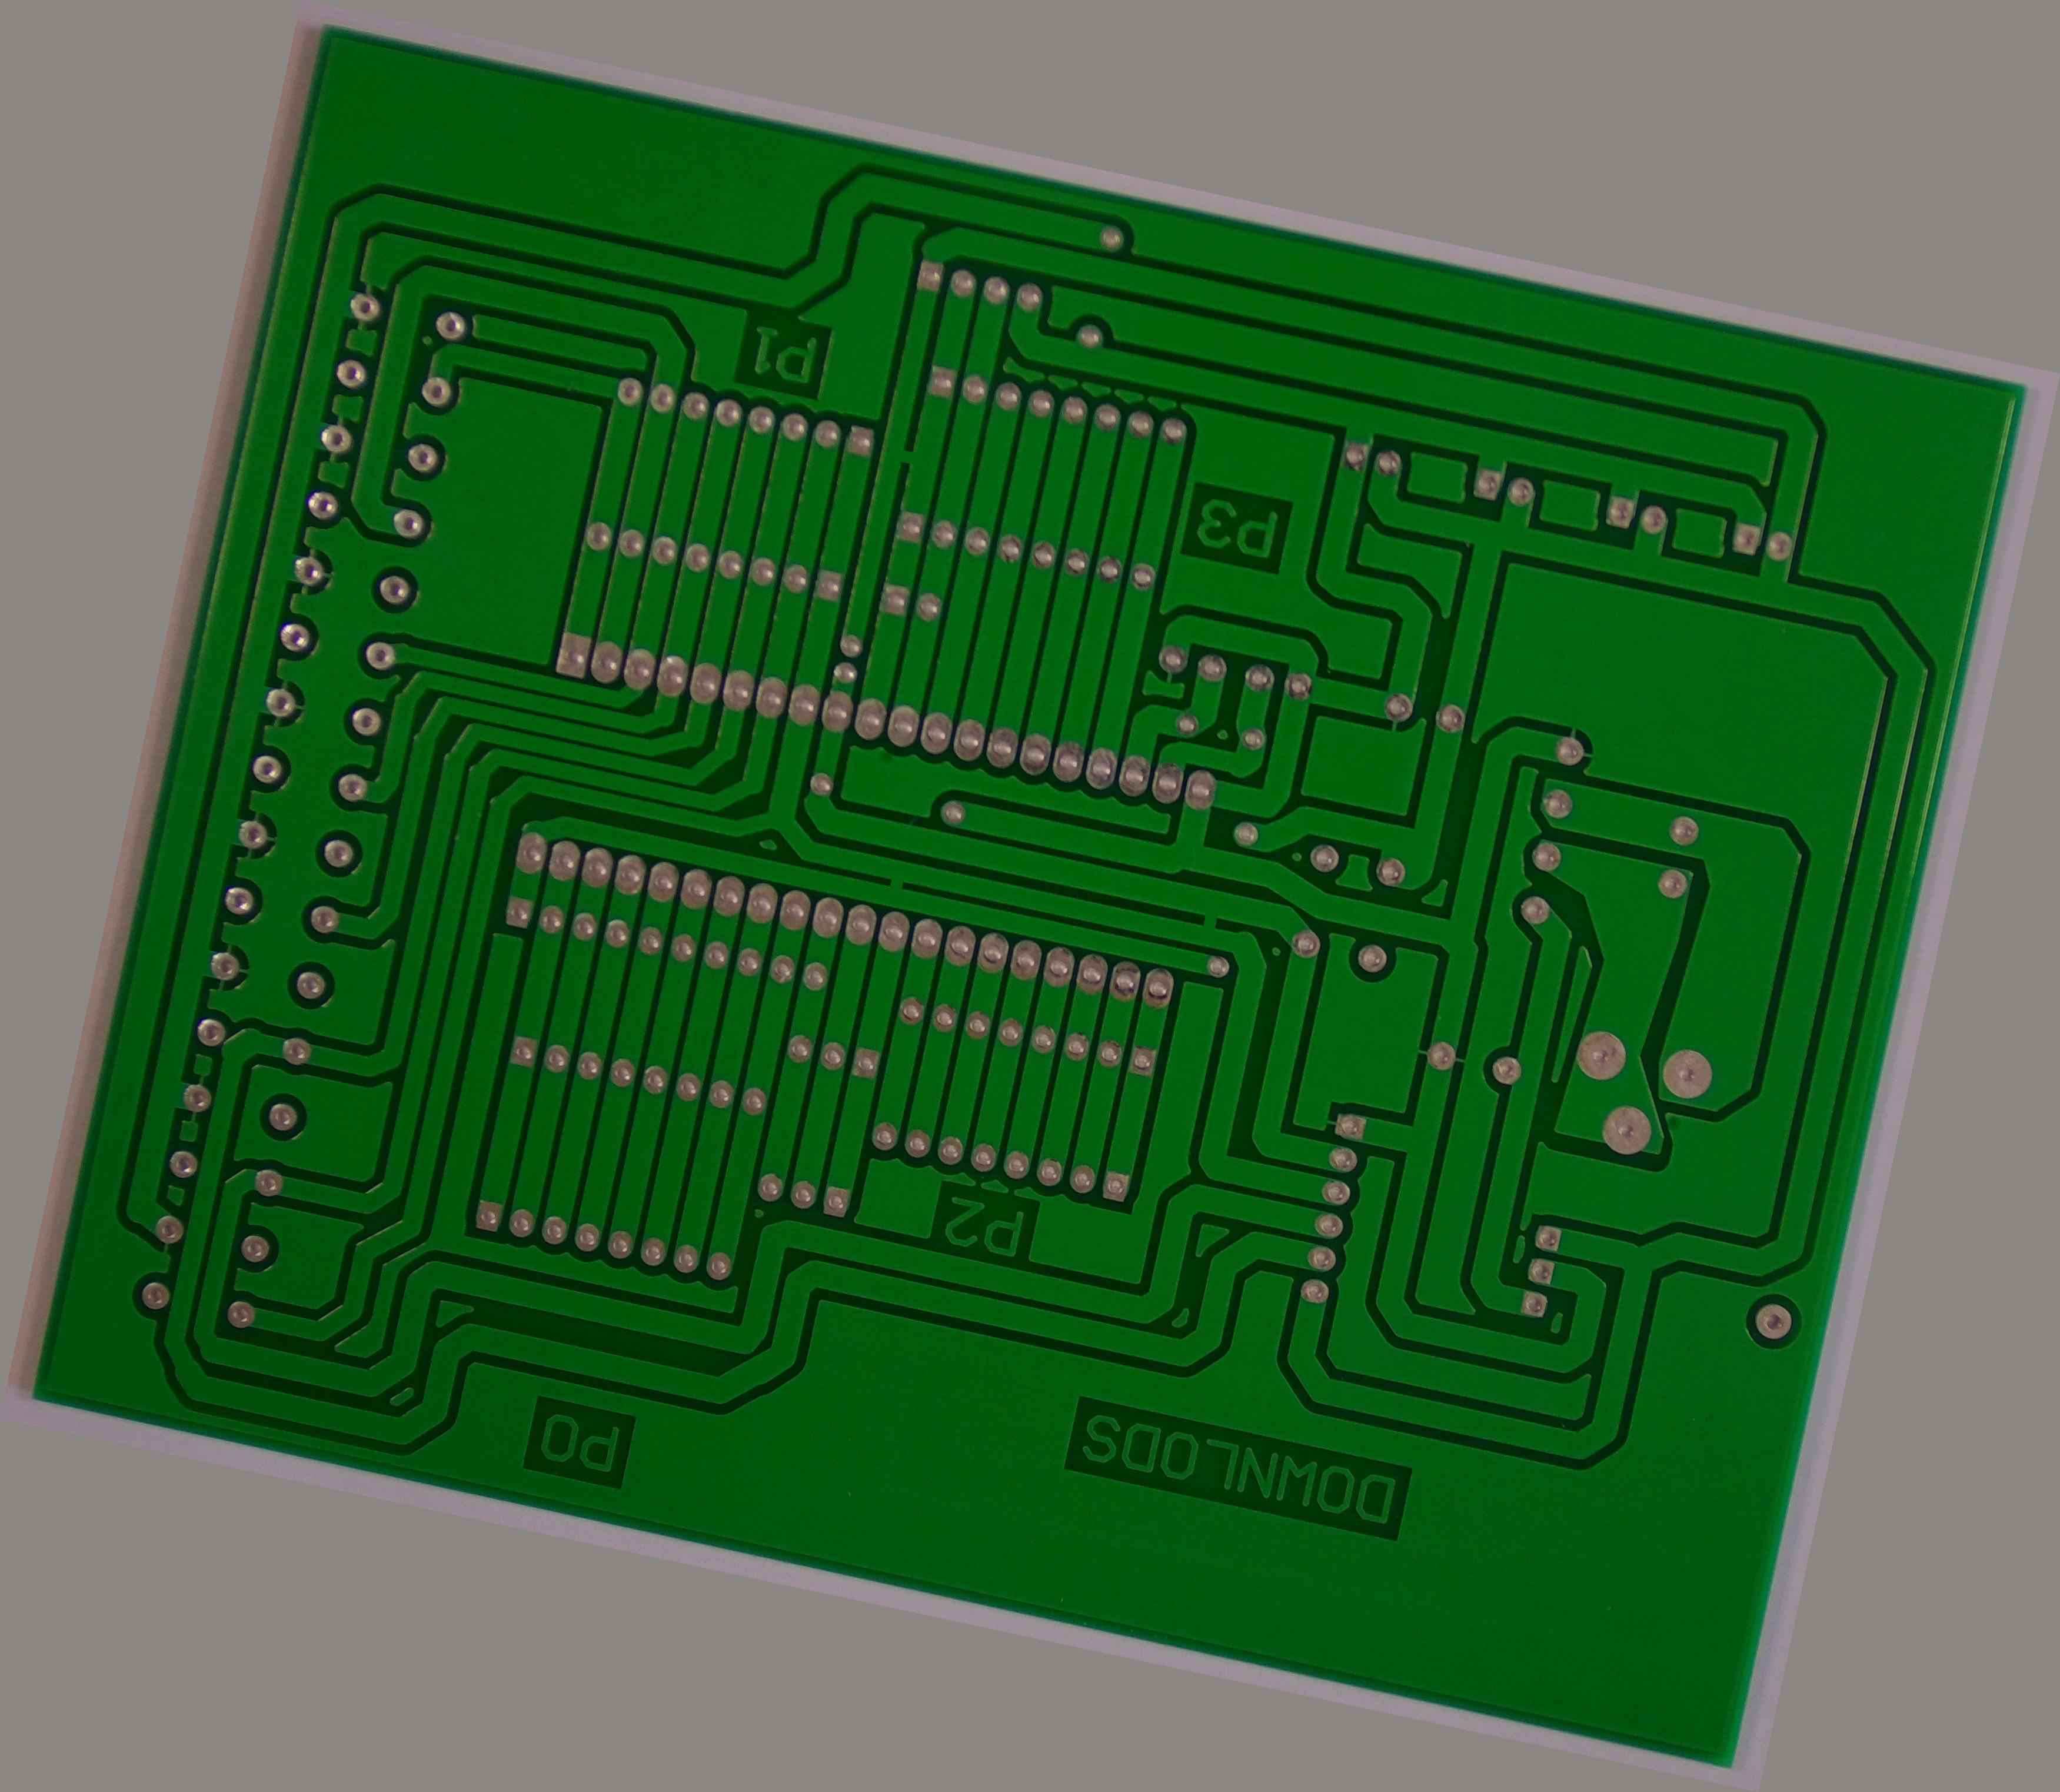short: (865, 417, 942, 499), (867, 850, 930, 911), (1184, 892, 1244, 955)
